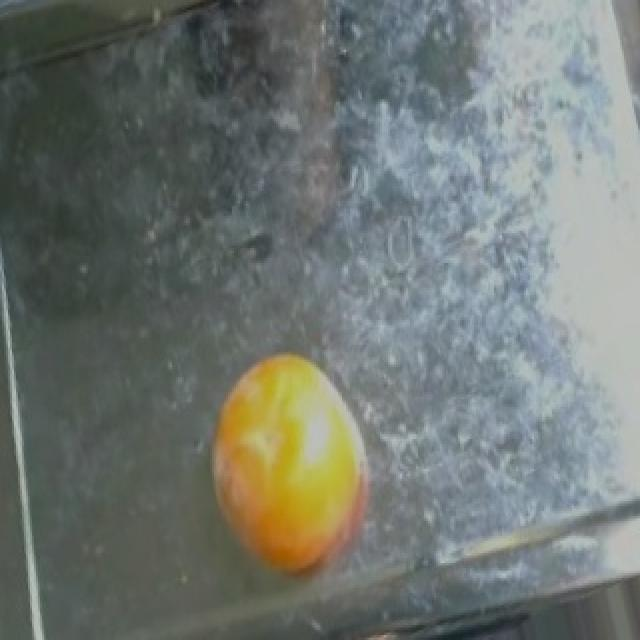Fruit: (198, 340, 392, 598)
